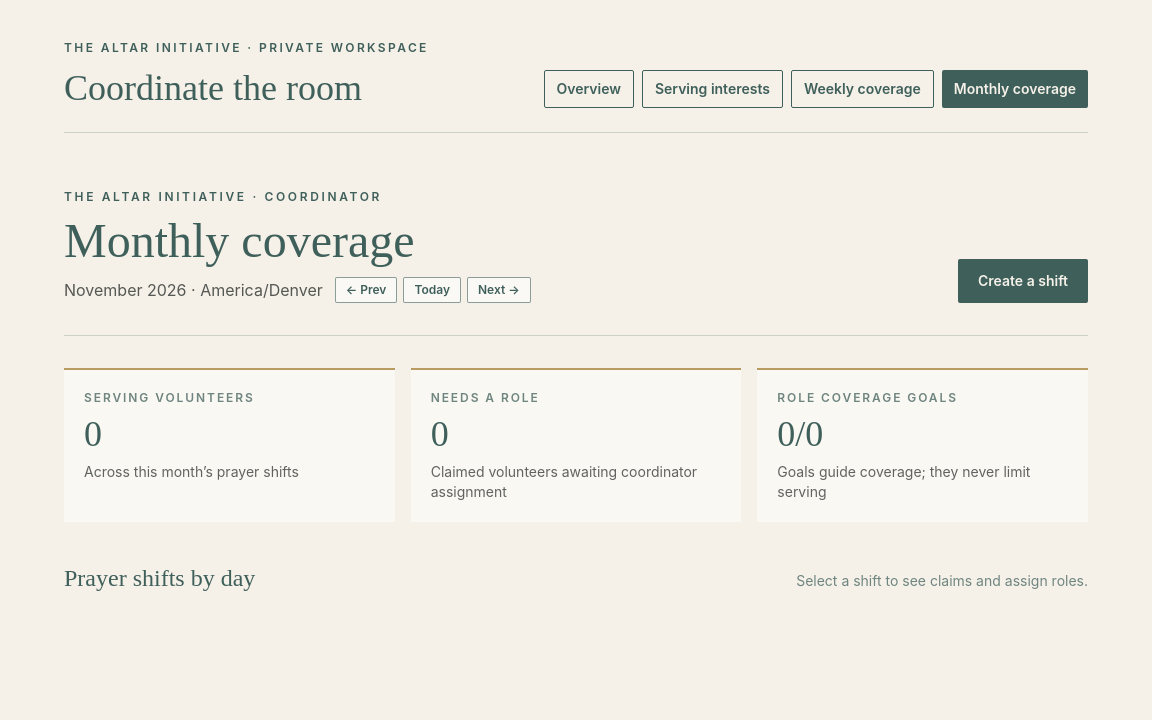
Test: does not let an older schedule request overwrite the current month
This screenshot has width=1152, height=720.
What coordinates should you click on to do the following:
click the button with aria-label "Next month"
I would click on:
 (499, 290)
Its box is [467,277,531,303].
(page scrolled)
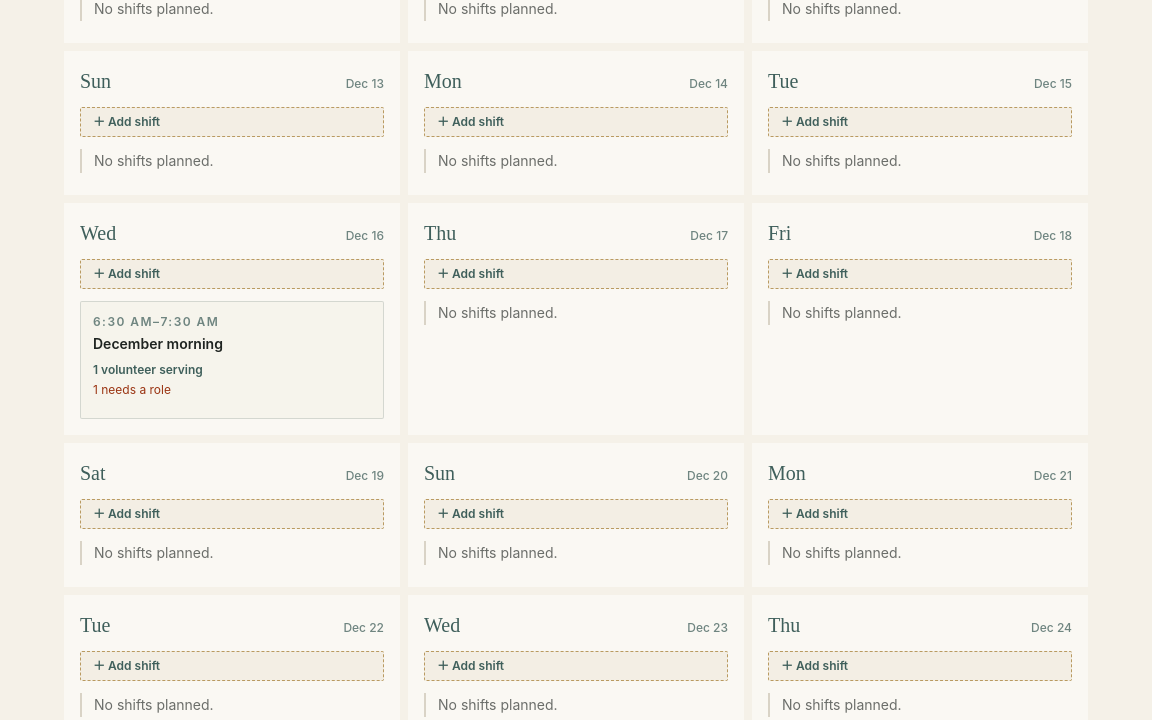
Check: the button "December morning" is shown, box [80,301,384,419]
